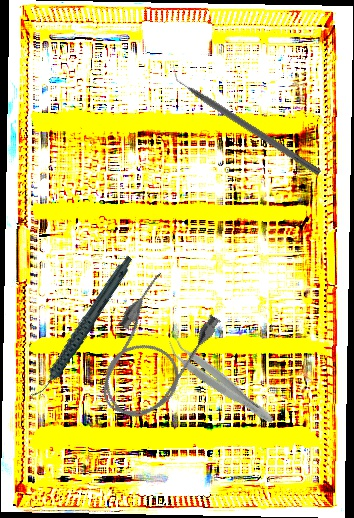Cannula: (78, 267, 227, 434)
Chopper: (165, 62, 327, 177)
Handpiece: (5, 254, 159, 401)
Tissue Forceps: (161, 333, 281, 429)
